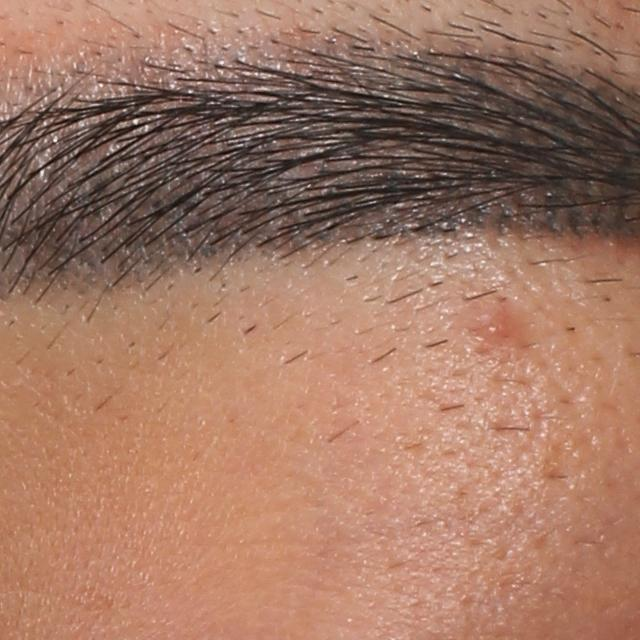papule: (471, 295, 526, 349)
